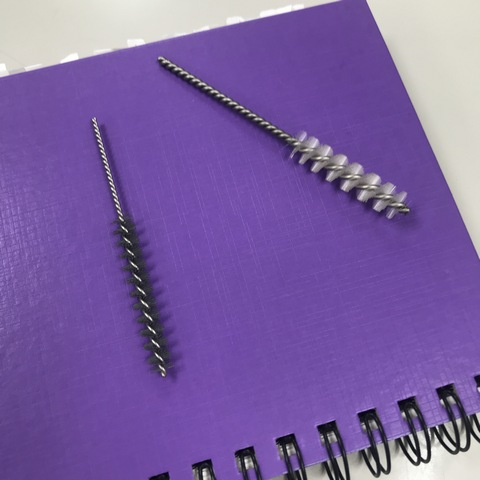Twist Brush-A: (79, 109, 185, 386)
Twist Brush-B: (154, 51, 413, 225)
